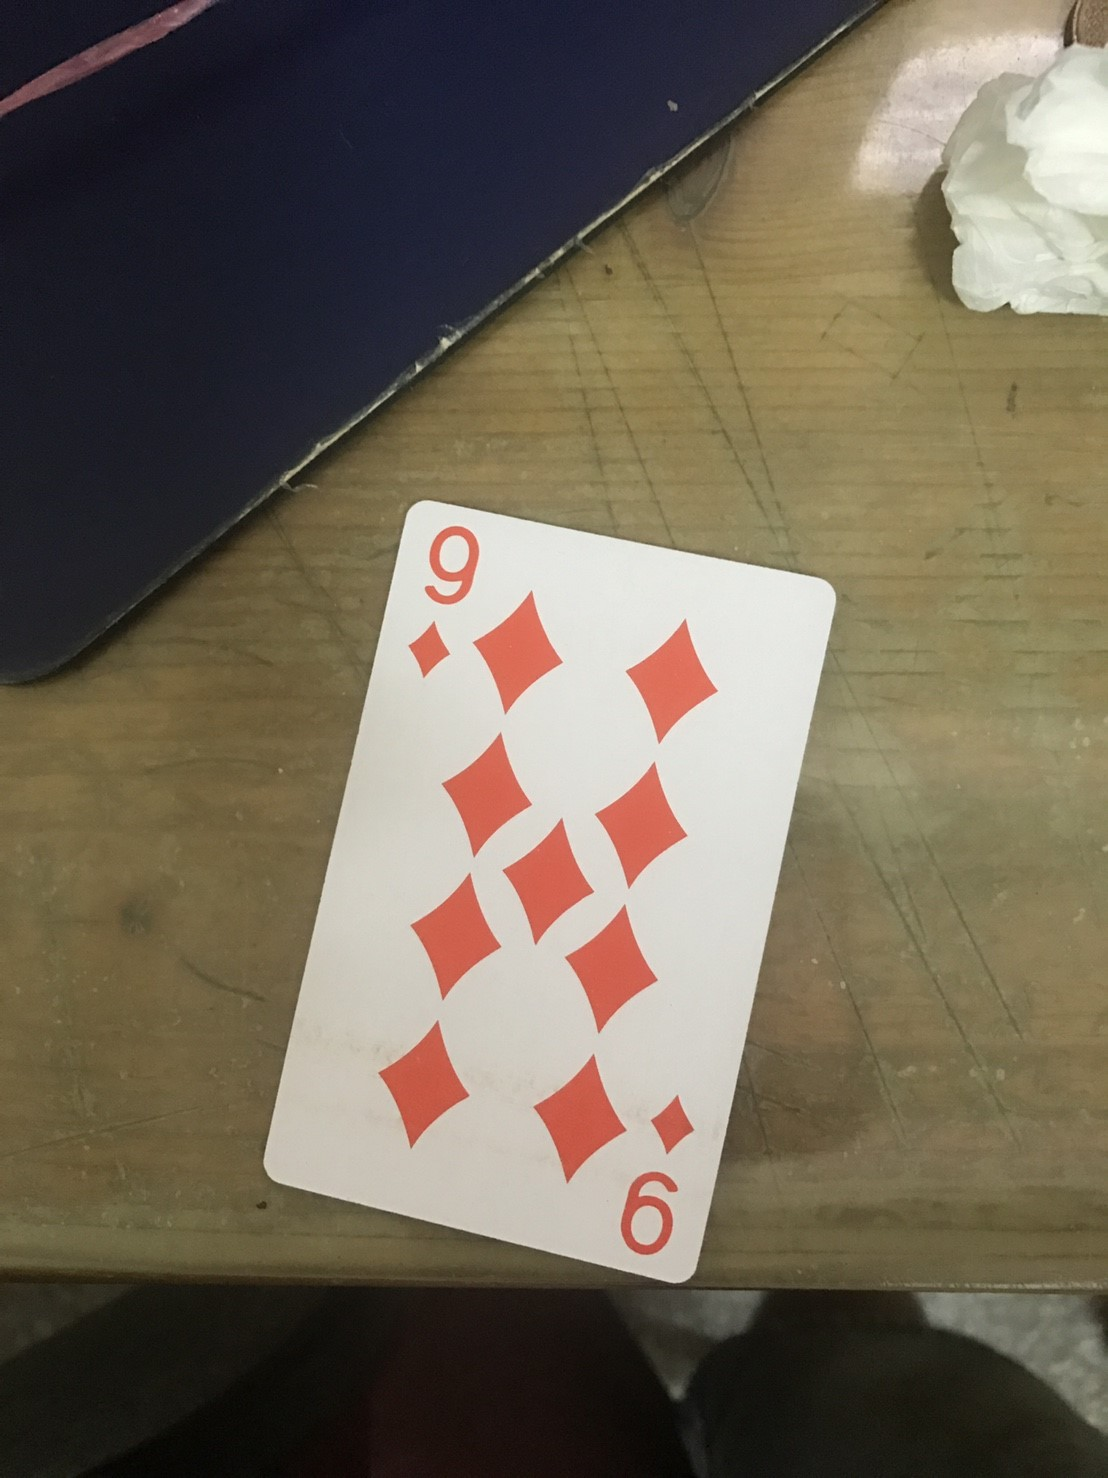diamonds: (375, 1018, 480, 1161), (470, 585, 578, 722), (525, 1050, 634, 1184), (627, 612, 743, 738), (429, 730, 541, 857), (591, 761, 696, 888), (570, 905, 670, 1035), (499, 811, 594, 945), (405, 871, 500, 1002), (642, 1090, 701, 1159), (398, 619, 453, 681)
